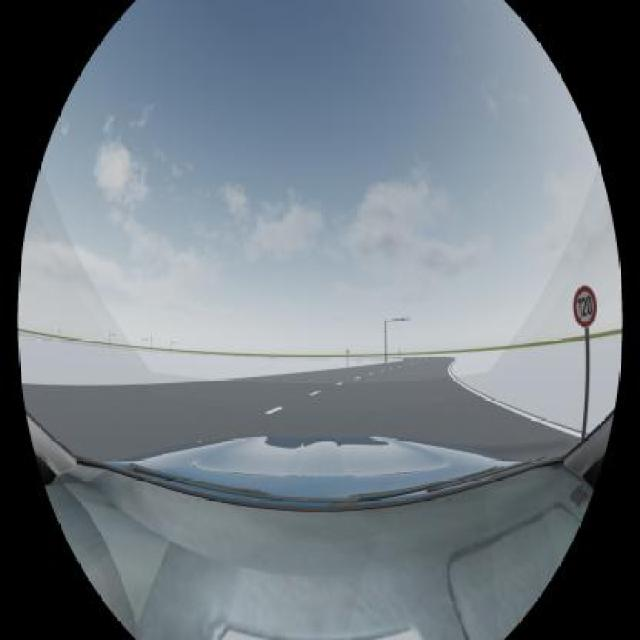forb_speed_over_120: (572, 285, 597, 328)
